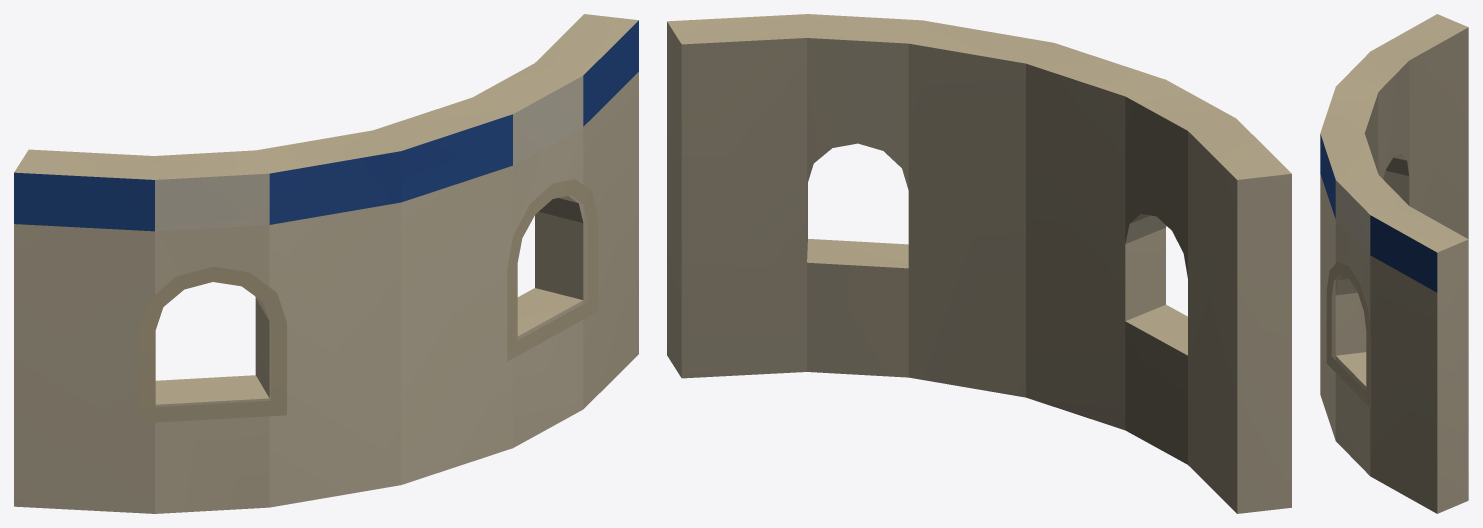
Rendered from dome.drum_window.blue.glb.
The picture shows the model from 3 angles, left to right: view 1: azimuth 30°, elevation 25°; view 2: azimuth 150°, elevation 25°; view 3: azimuth 270°, elevation 25°; orthographic projection. The views are drawn at different scales.
Parts seen in each view (by area): view 1: dome_drum_window_blue; view 2: dome_drum_window_blue; view 3: dome_drum_window_blue.
Part boxes in pixels (x1,y1,x2,y2): dome_drum_window_blue: (14, 14, 638, 513); dome_drum_window_blue: (667, 14, 1291, 513); dome_drum_window_blue: (1320, 14, 1468, 513).
Size of what is drawn, in the model's own units: 5.09 by 2.6 by 1.34.
